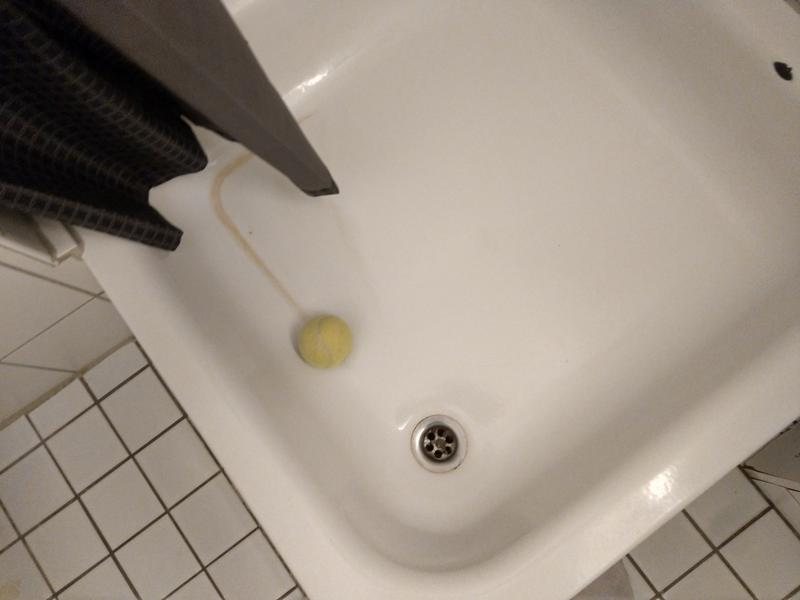Tennisball: (293, 312, 360, 375)
